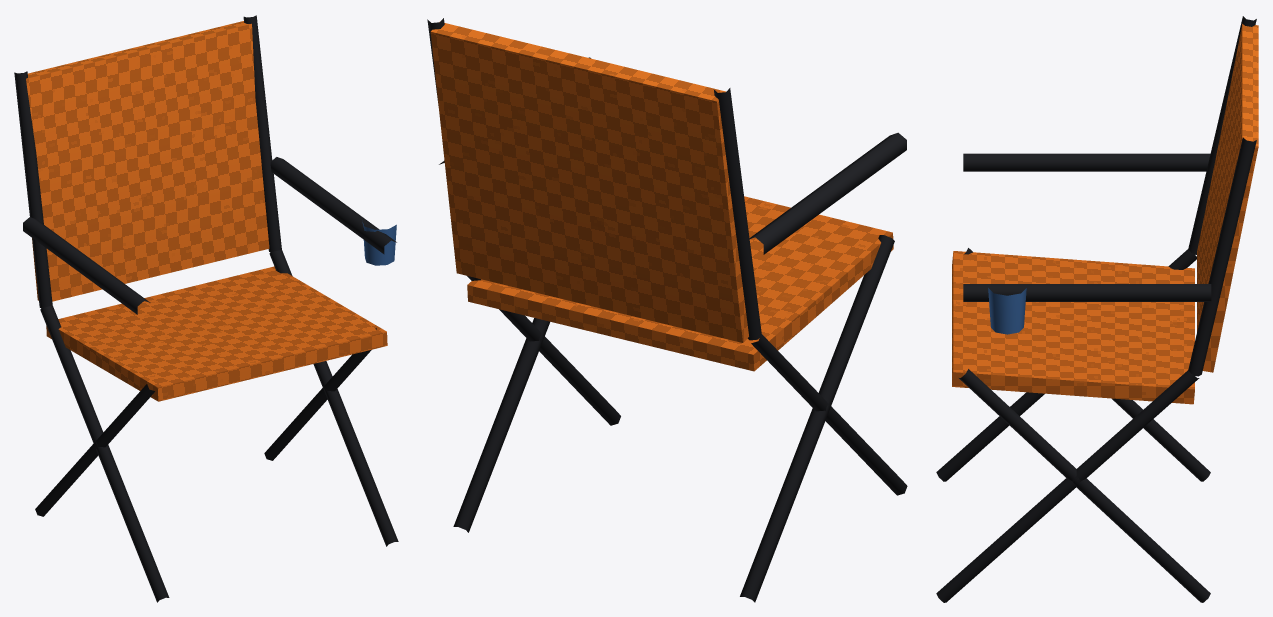
The model's file is cadeira_dobravel.glb.
3 renders of one model, left to right at view 1: azimuth 30°, elevation 25°; view 2: azimuth 150°, elevation 25°; view 3: azimuth 270°, elevation 25°, orthographic. The views are drawn at different scales.
Visible parts, largest first — view 1: cadeira_dobravel, cadeira_dobravel_liso; view 2: cadeira_dobravel, cadeira_dobravel_liso; view 3: cadeira_dobravel, cadeira_dobravel_liso.
Part boxes in pixels (bbox=[...]): cadeira_dobravel: bbox=[26, 21, 387, 401]; cadeira_dobravel_liso: bbox=[14, 15, 398, 602]; cadeira_dobravel: bbox=[430, 22, 893, 371]; cadeira_dobravel_liso: bbox=[427, 18, 907, 602]; cadeira_dobravel: bbox=[952, 24, 1258, 404]; cadeira_dobravel_liso: bbox=[936, 16, 1256, 602].
Size of the model in its own units: 0.6306 by 0.932 by 0.585.
Materials: 2 (1 with a texture image).
